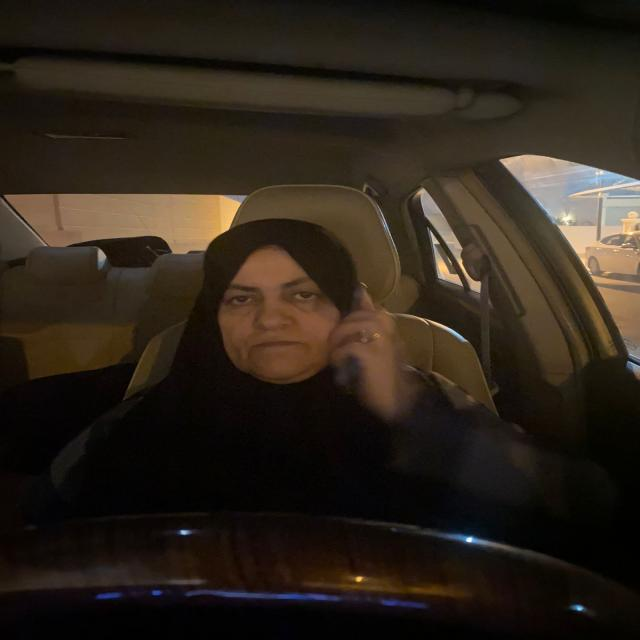person: (199, 216, 363, 388)
